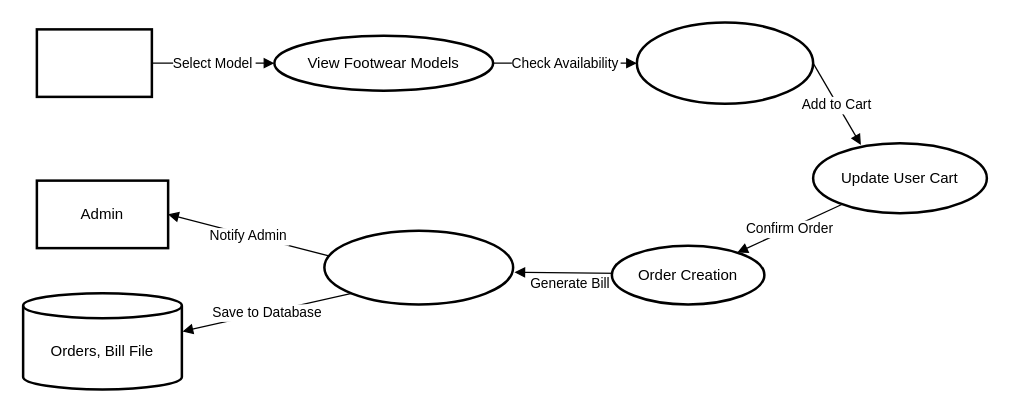
Some shapes in this 1009 by 413 pixel diagram are drawn without their labels. Each missing label, with the centre of its shape:
"Invoice Generation" belongs at (x=418, y=267).
"Stock Verification" belongs at (x=724, y=62).
"User" belongs at (x=93, y=63).
